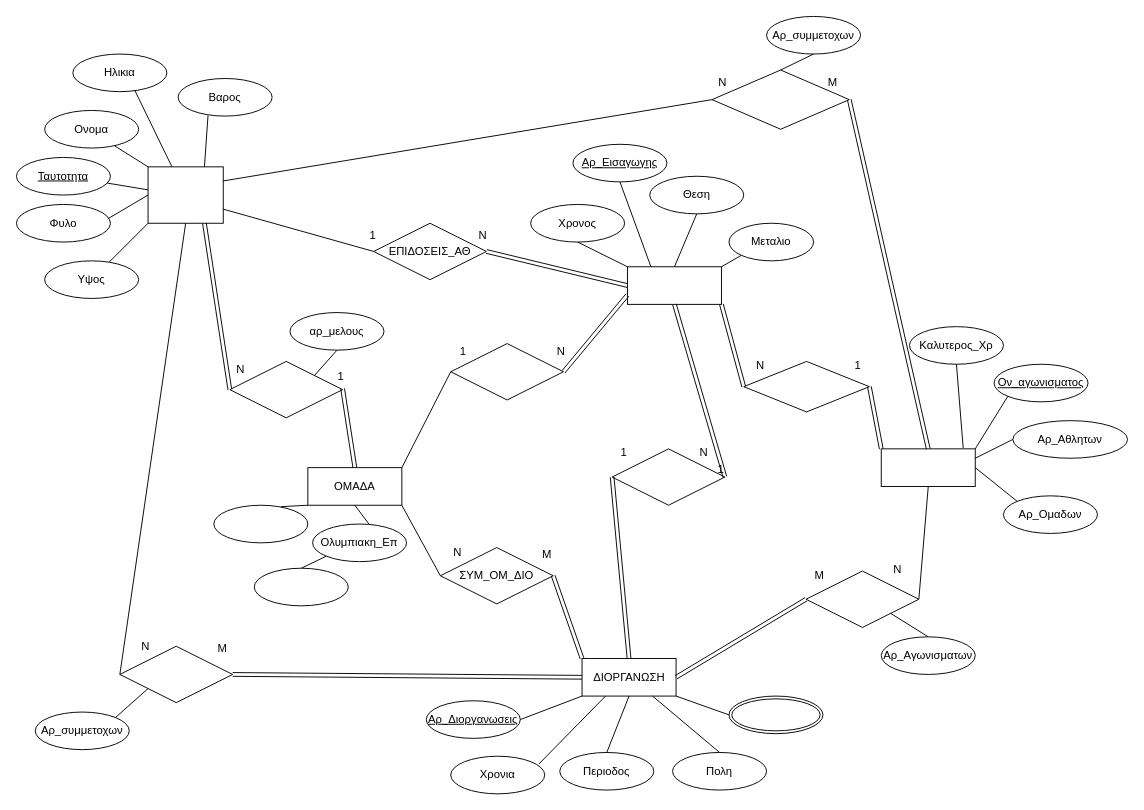
This 1144x810 diagram has some shape labels left out. Each missing label, with the box of its shape:
AΘΛΗΤΗΣ: (147, 166, 223, 223)
ΑΓΩΝΙΣΜΑ: (880, 448, 975, 486)
ΑΓΩΝΙΣΜΑΤΑ: (805, 570, 919, 627)
ΕΠΙΔΩΣΕΙΣ_ΑΓ: (743, 360, 869, 412)
ΕΠΙΔΩΣΕΙΣ_ΔΙΟ: (611, 448, 725, 505)
ΕΠΙΔΩΣΕΙΣ_ΟΜ: (450, 343, 564, 400)
ΕΠΙΔΩΣΗ: (627, 266, 721, 304)
Κωδικος: (253, 567, 348, 606)
ΜΕΛΟΣ: (229, 360, 343, 418)
Ον_Χωρας: (213, 504, 308, 543)
ΣΥΜ_AΘ_ΔΙΟ: (119, 645, 233, 703)
ΣΥΜ_ΑΘΛ_ΑΓΩ: (711, 69, 849, 129)
Χορηγοι: (728, 695, 823, 734)
